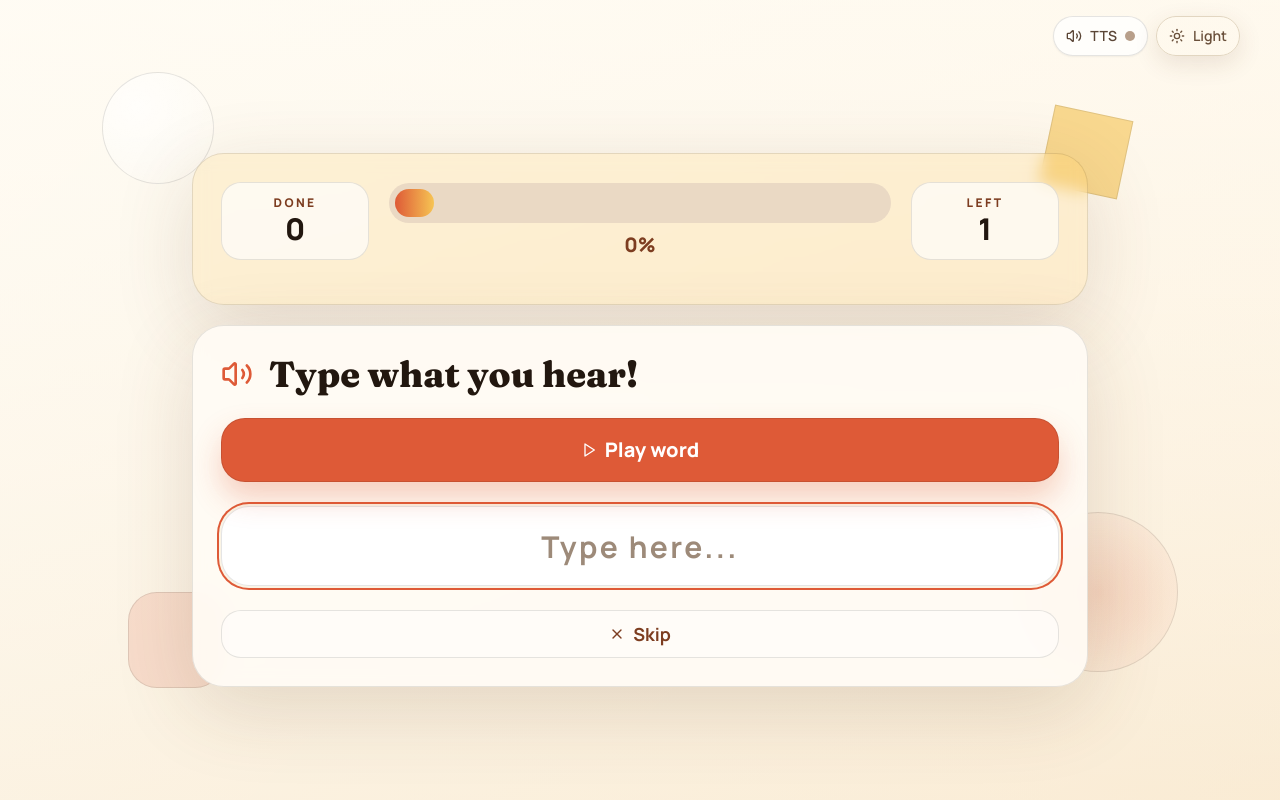
QuestionScreen › normalizes input by trimming punctuation and spacing
Type "hello.  " into the field with placeholder "Type here..." at (640, 546), box x1=221 y1=506 x2=1059 y2=586
Then press Enter
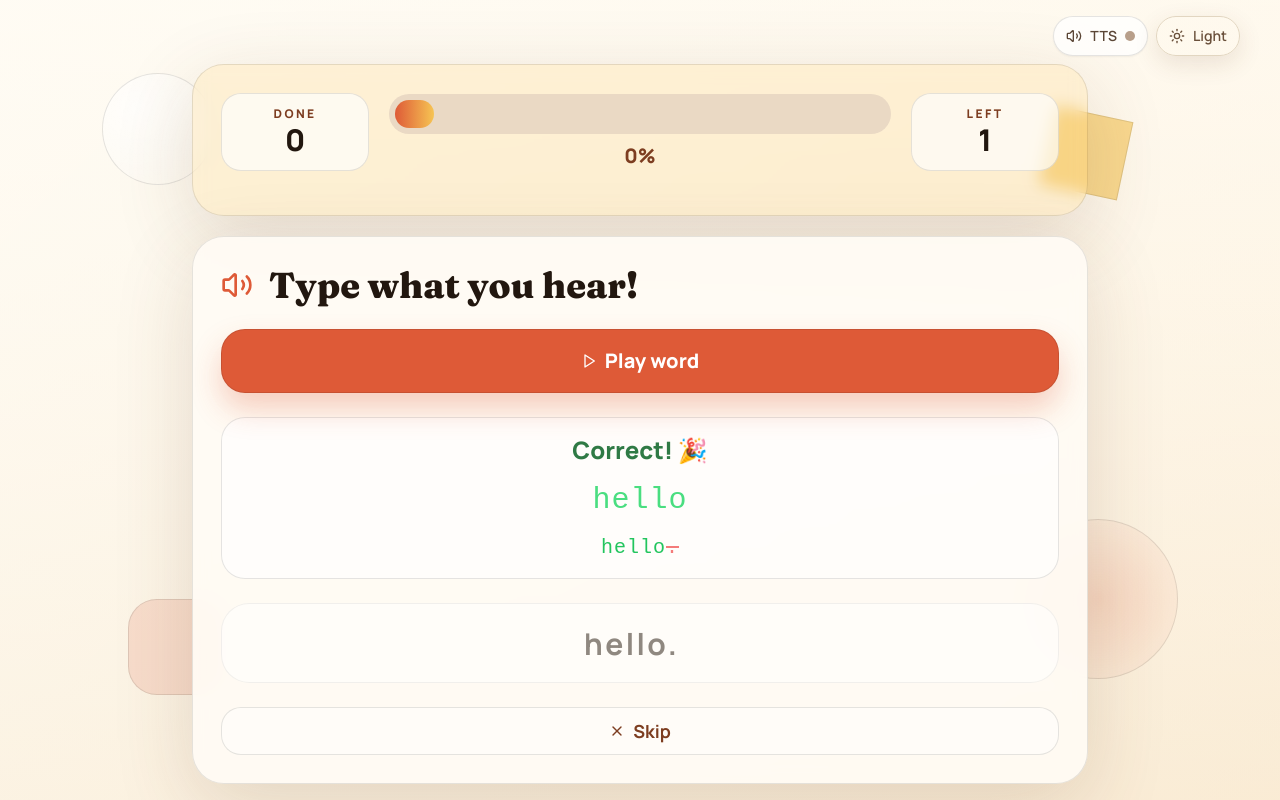
Check: the text "Correct! 🎉" is shown, box x1=572 y1=433 x2=708 y2=466
